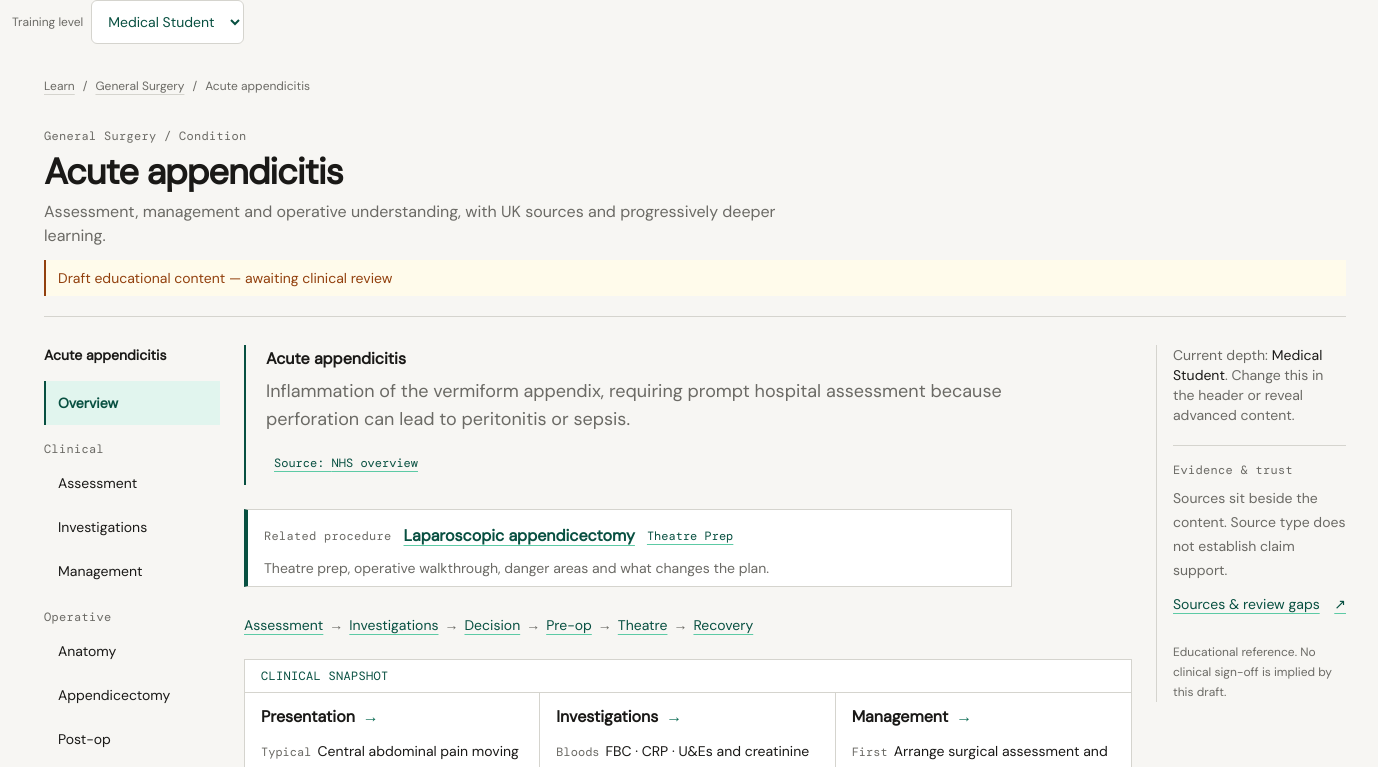
Scenario: keeps basic operative understanding universal and gates technical rows by depth
Select "CST" in the dropdown: (168, 22) [91, 0, 244, 44]
(page scrolled)
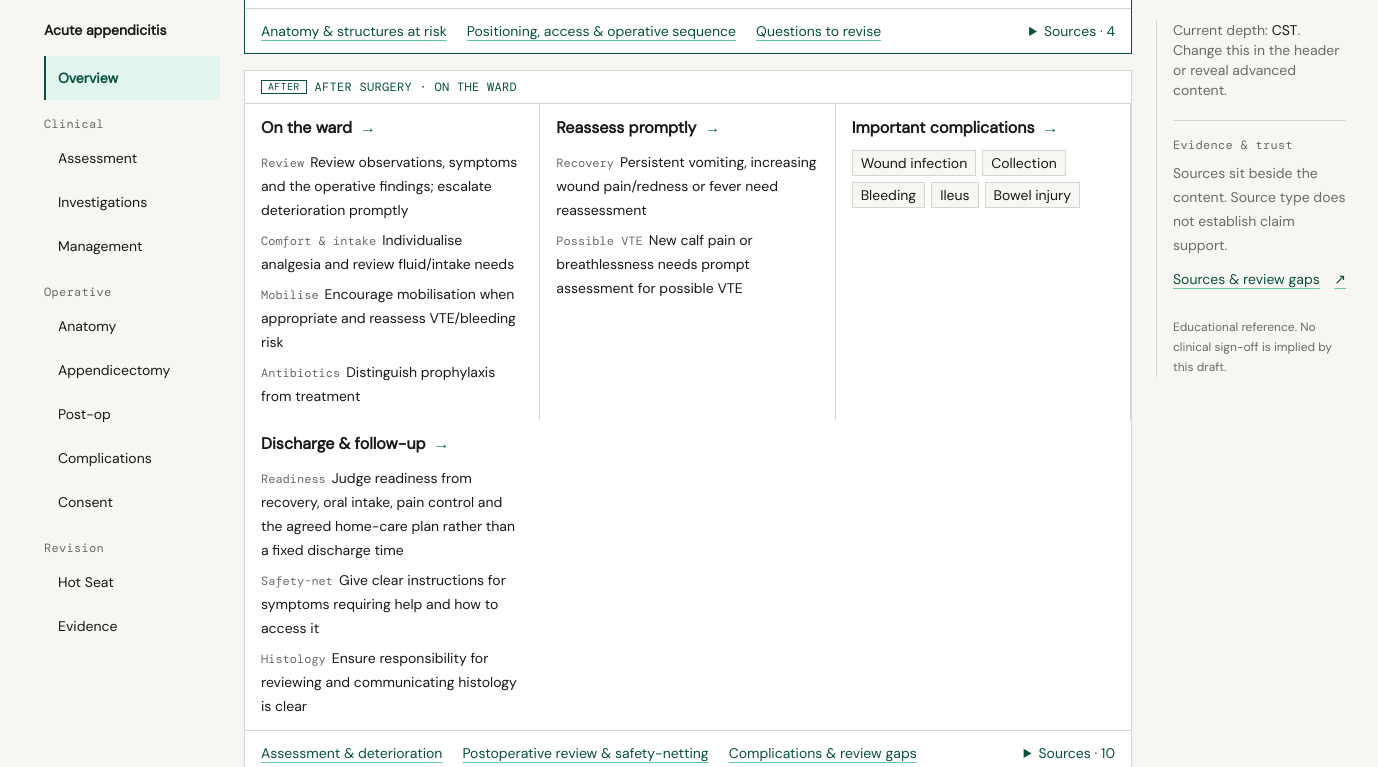
Now the text "Distinguish prophylaxis from treatment" is shown, box [261, 363, 495, 405]
